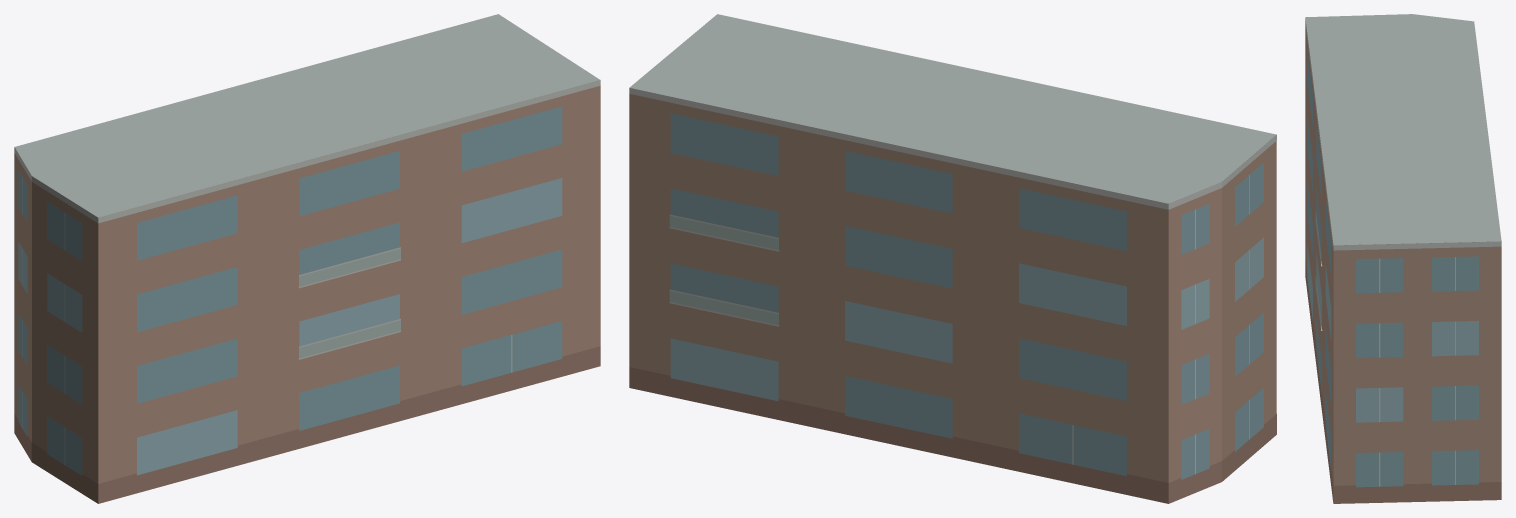
The model's file is survey-upis-32709056.glb.
3 renders of one model, left to right at view 1: azimuth 30°, elevation 25°; view 2: azimuth 150°, elevation 25°; view 3: azimuth 270°, elevation 25°, orthographic. The views are drawn at different scales.
Visible parts, largest first — view 1: survey-upis-32709056.tmp; view 2: survey-upis-32709056.tmp; view 3: survey-upis-32709056.tmp.
Boxes of the visible parts, x1,y1,x2,y2 form: survey-upis-32709056.tmp: (14, 14, 600, 503); survey-upis-32709056.tmp: (629, 14, 1276, 503); survey-upis-32709056.tmp: (1305, 14, 1501, 503).
Bounding box in the file's own units: 23.43 × 12.2 × 8.41.
